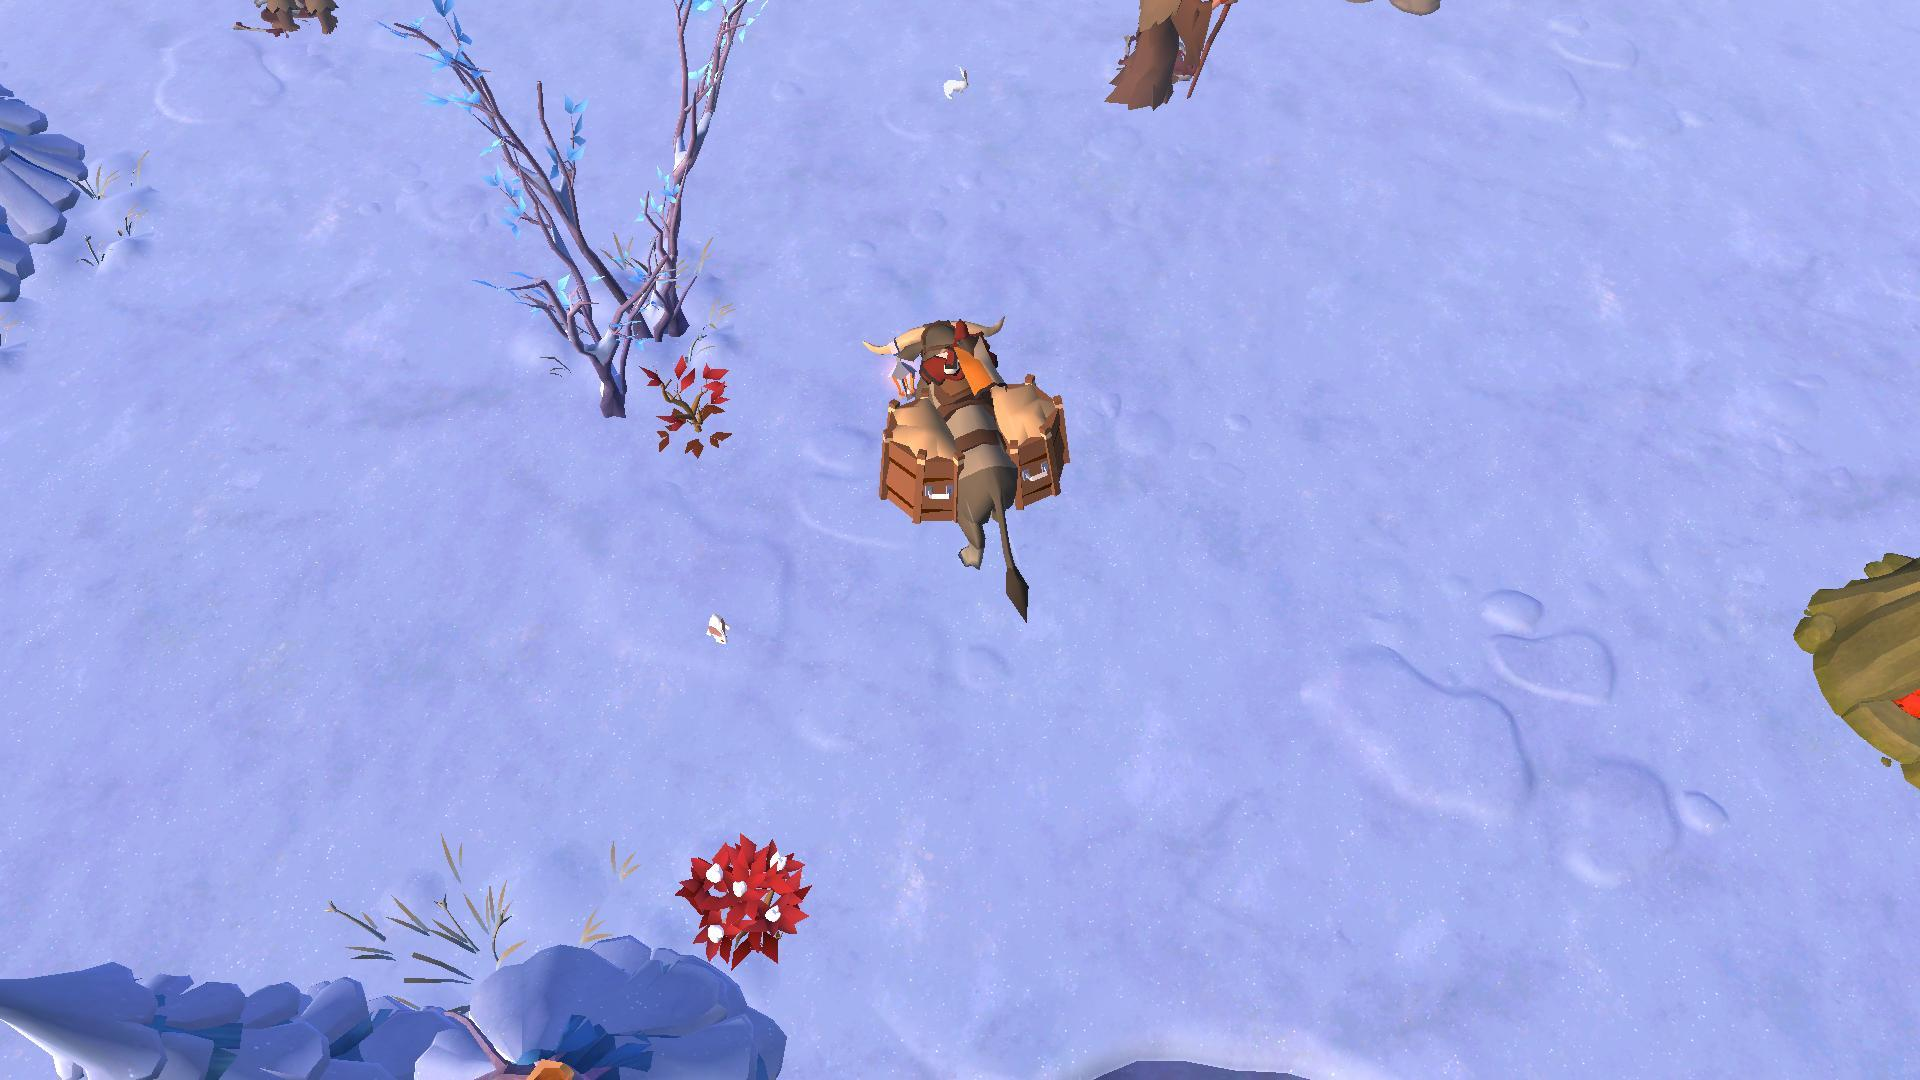enemy_factionKeeper: (1117, 0, 1245, 137)
fiber_t5: (675, 832, 808, 965)
